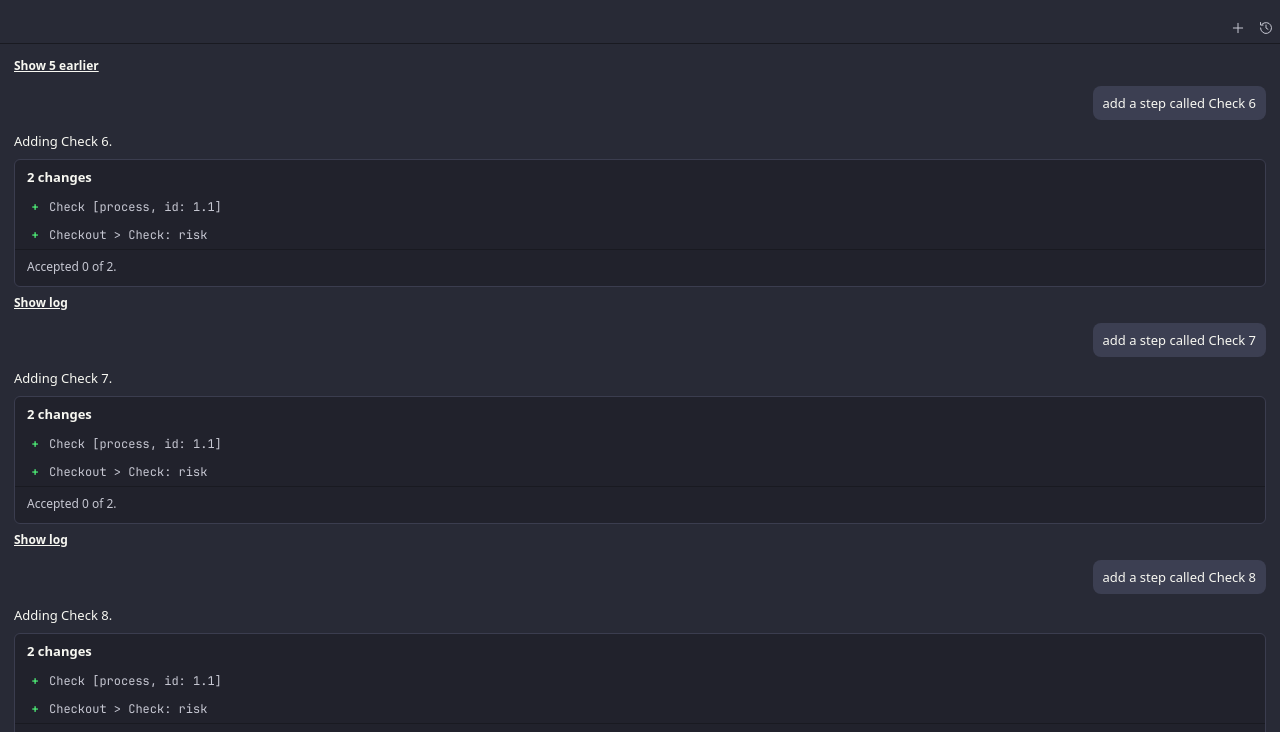
Scenario: show_earlier_brings_back_turns_with_their_cards_as_one_line
Click the button "Show 5 earlier". click: (56, 66)
box: [14,58,99,74]
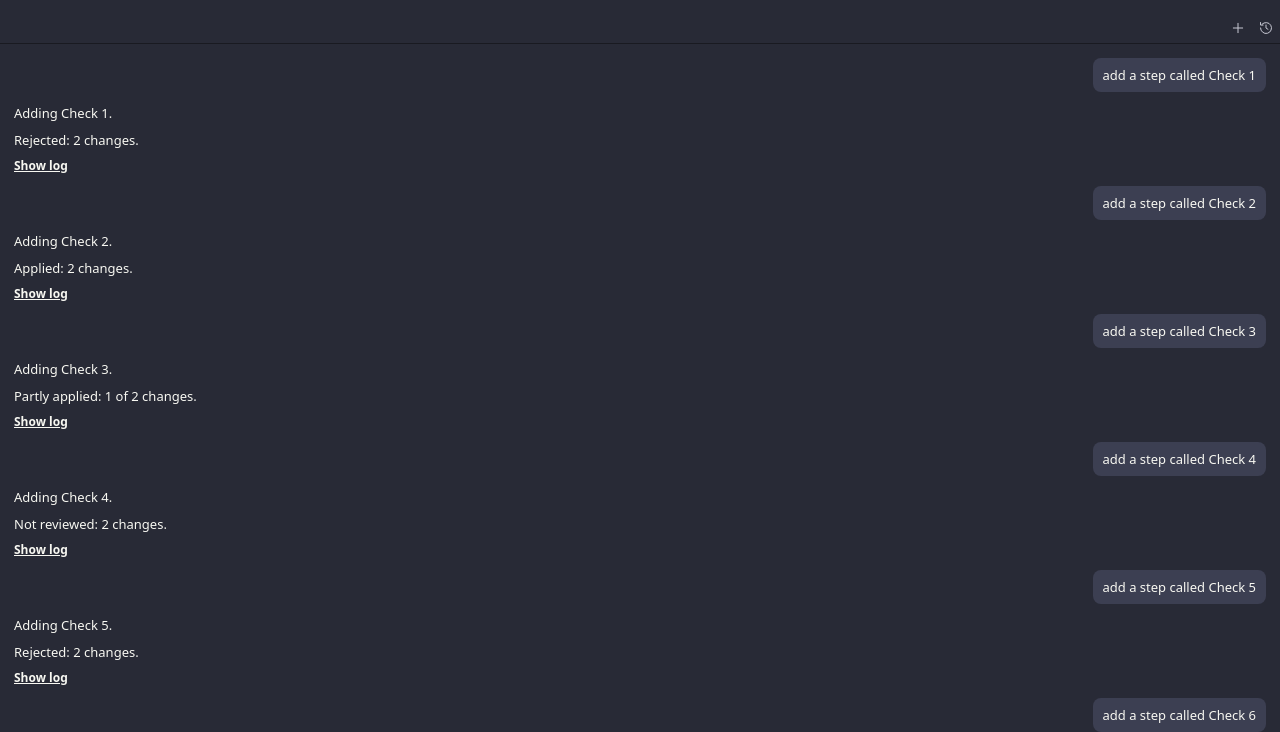
Expected: the button "earlier" is gone
Expected: the text "add a step called Check 1" is shown, [1092,58,1266,92]
Expected: the text "Applied: 2 changes." is shown, [14,259,133,277]
